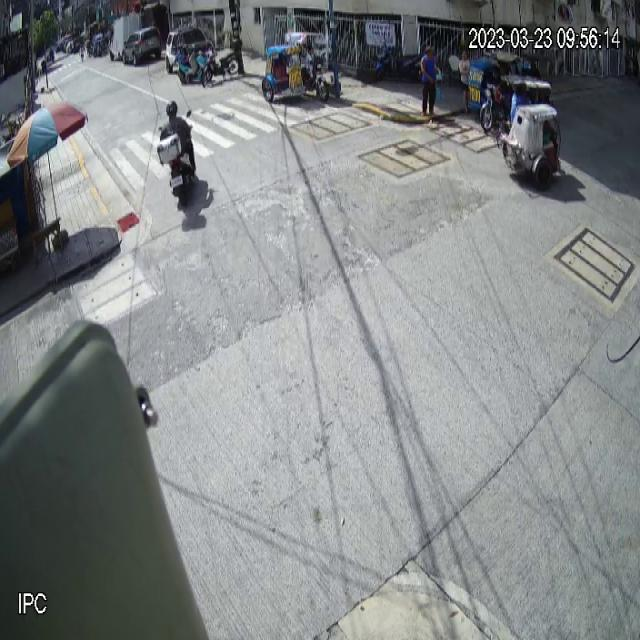Motorcycle: (157, 107, 198, 208)
Tricycle: (496, 72, 565, 190), (261, 31, 330, 105)
